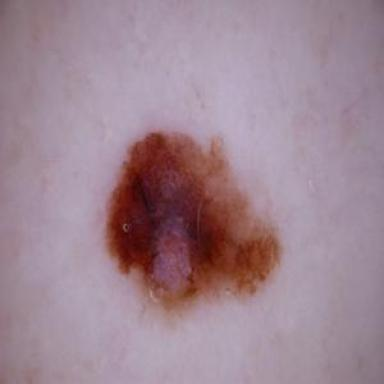Melanoma: (108, 133, 279, 308)
